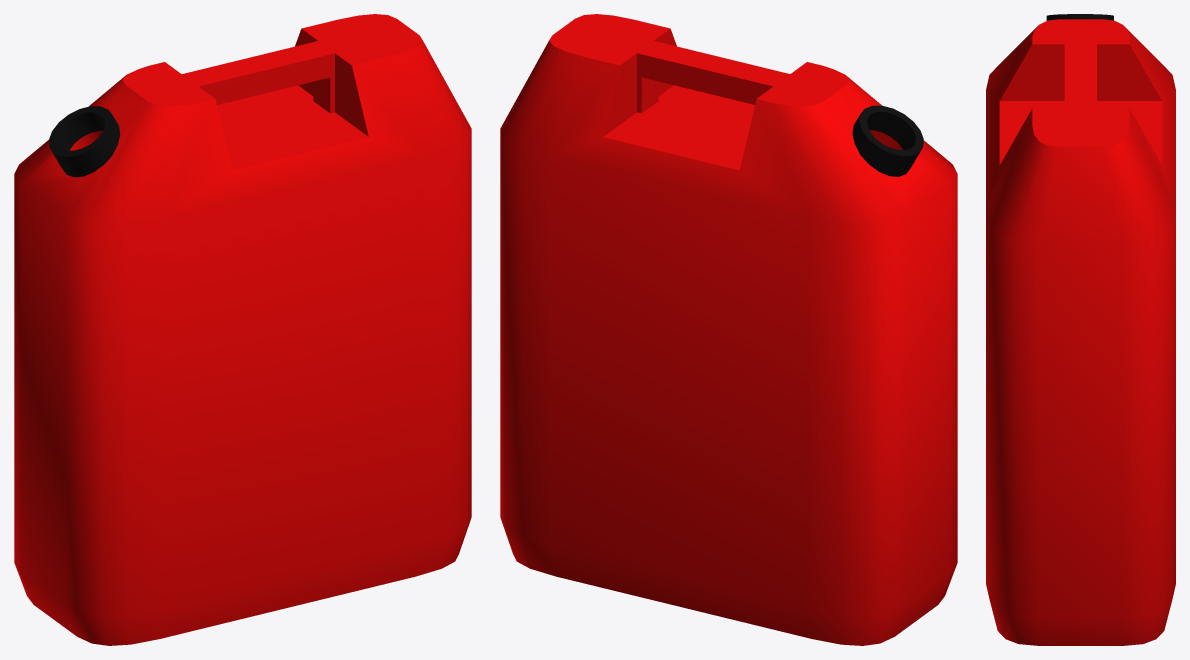
File: BidonGasolinaPEQUEÑO.fbx
The picture shows the model from 3 angles, left to right: view 1: azimuth 30°, elevation 25°; view 2: azimuth 150°, elevation 25°; view 3: azimuth 270°, elevation 25°; orthographic projection. The views are drawn at different scales.
Parts seen in each view (by area): view 1: Box001; view 2: Box001; view 3: Box001.
Boxes of the visible parts, x1,y1,x2,y2 form: Box001: [14, 14, 471, 645]; Box001: [500, 14, 957, 645]; Box001: [986, 14, 1175, 645].
Bounding box in the file's own units: 9.93 × 12.38 × 4.26.
